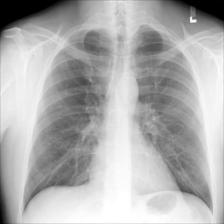normal: (22, 24, 215, 220)
